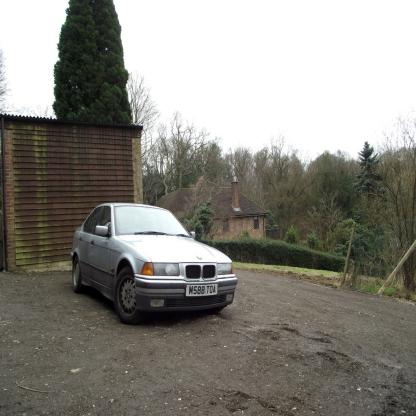Car: (72, 203, 239, 325)
